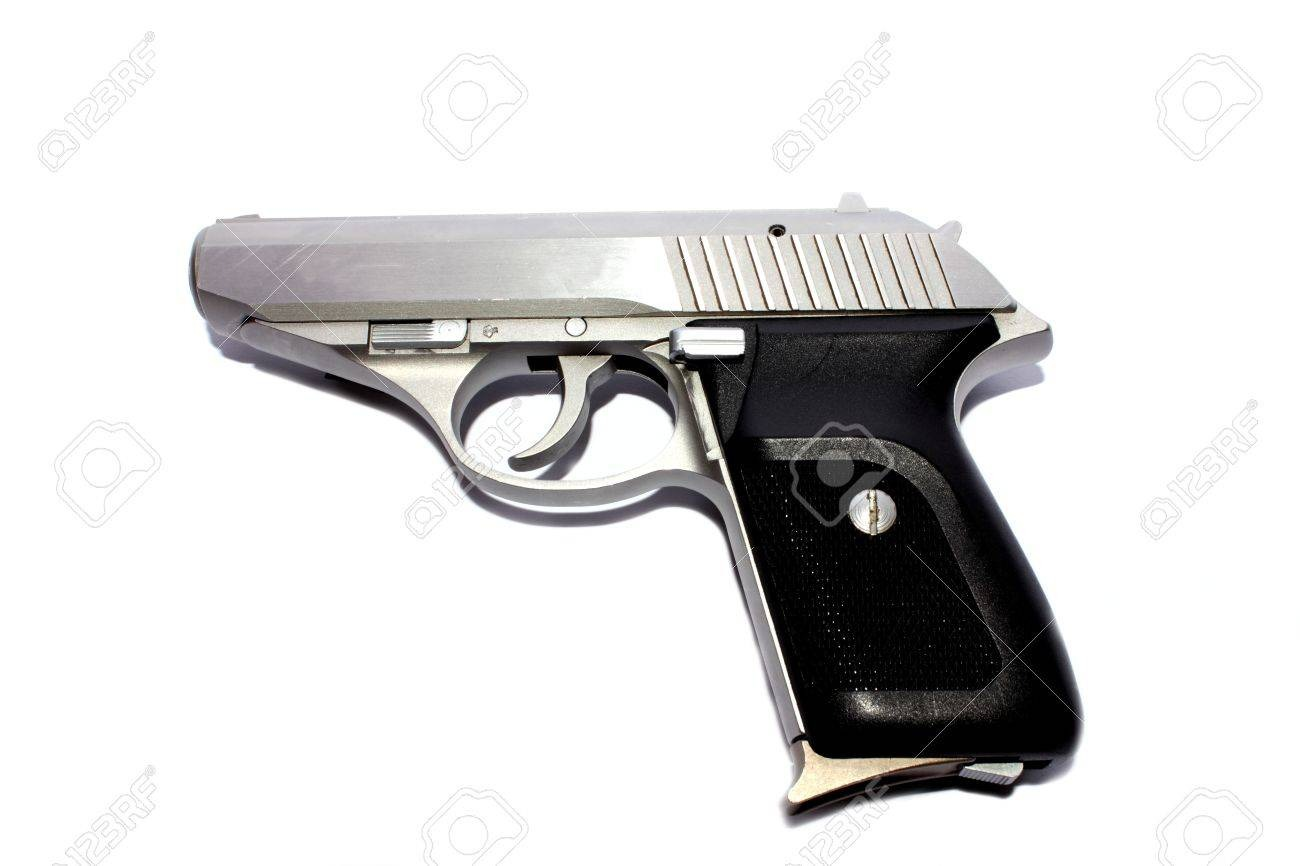gun: (188, 188, 1098, 822)
